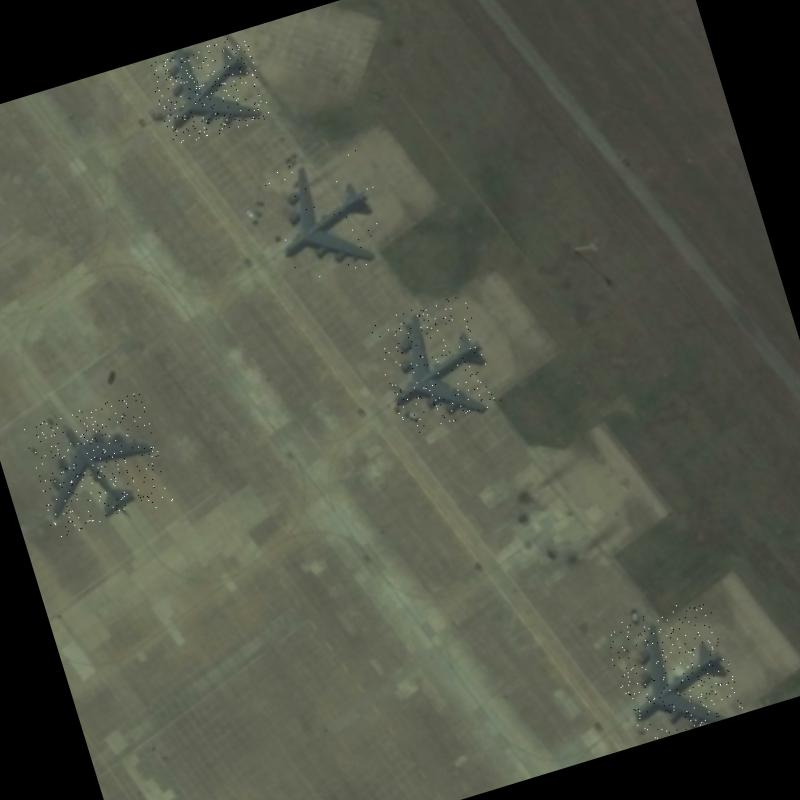A8: (21, 392, 174, 539), (602, 596, 744, 744), (258, 144, 395, 288), (369, 292, 504, 438), (147, 33, 272, 149)
